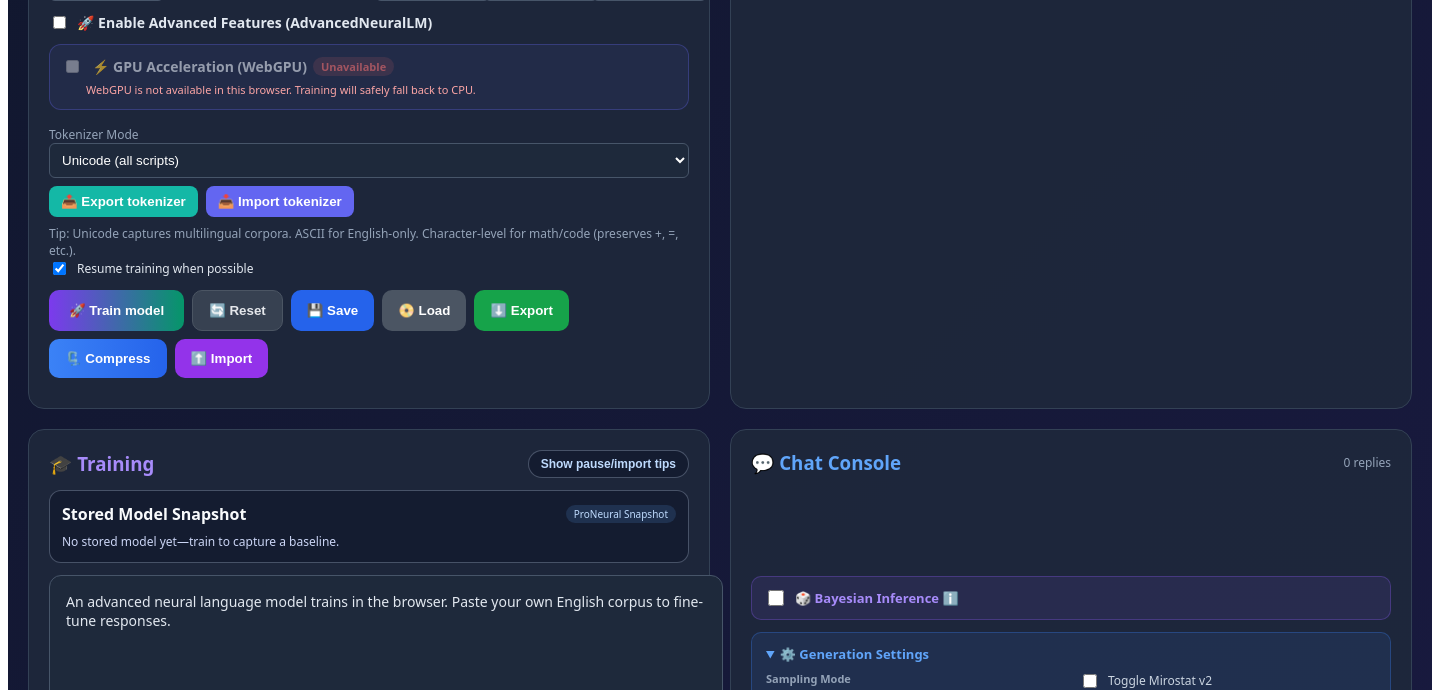
Neuro-Lingua App UI › blocks training when decision ledger status is ESCALATE
(page scrolled)
Click the button with aria-label "start model training" at (117, 310), box [49, 290, 184, 330]
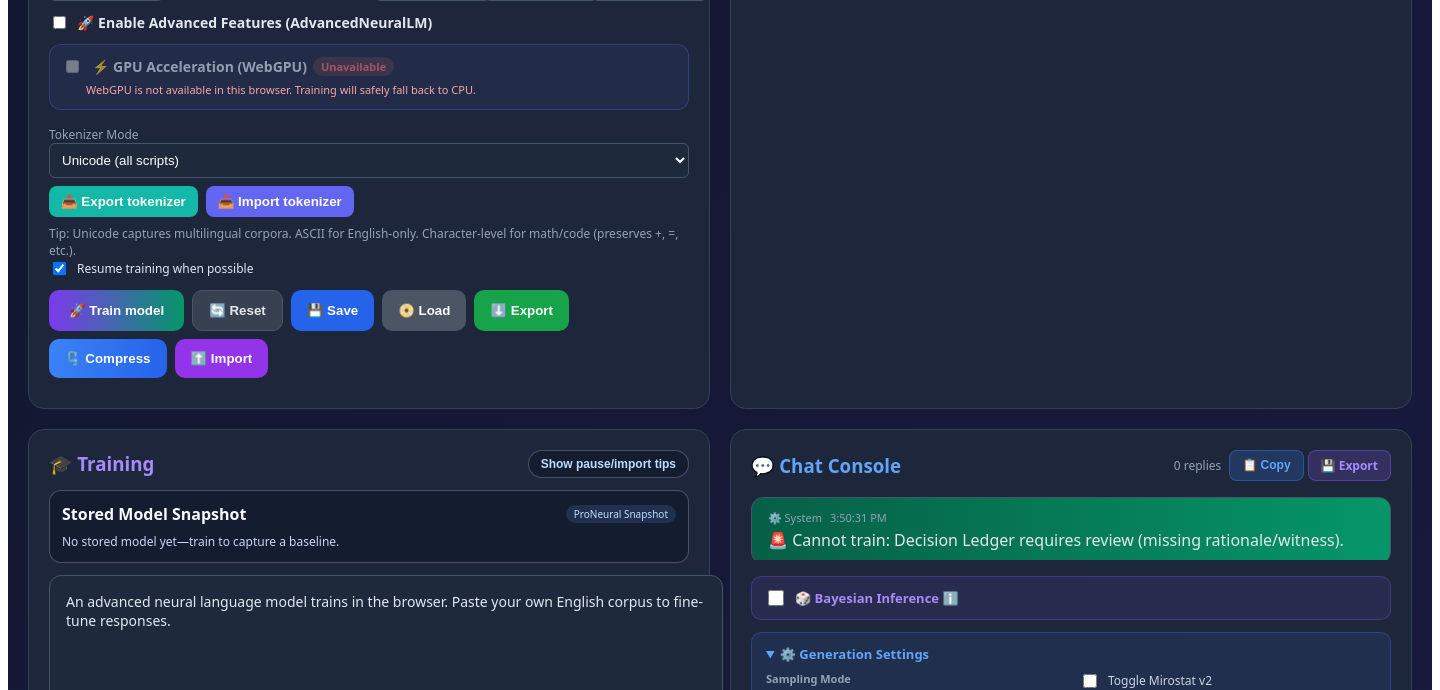
Check: the text "🚨 Cannot train: Decision Ledger requires review (missing rationale/witness)." is shown, box [768, 528, 1374, 550]
